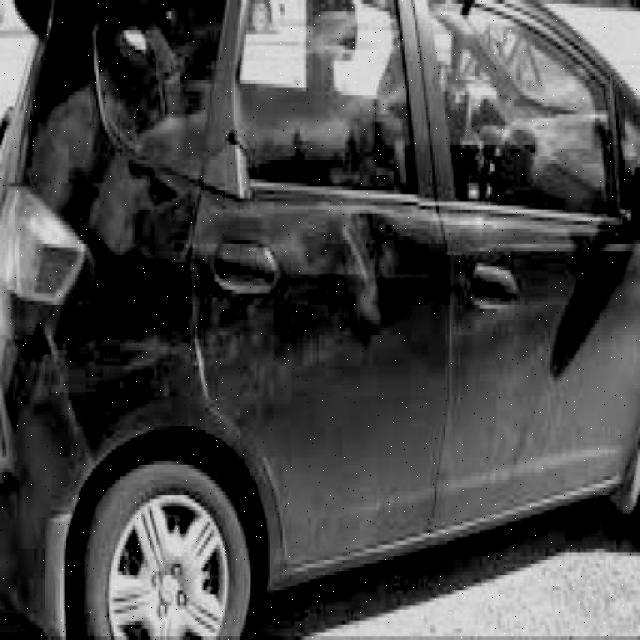car damage: (340, 210, 407, 336), (136, 173, 215, 273)
